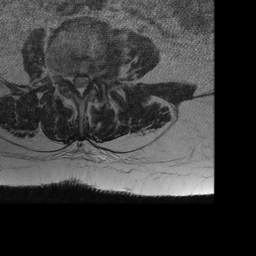CCS_normal: (78, 70, 84, 103)
LFS_stenosis: (90, 64, 98, 86)
LLS_normal: (84, 68, 90, 96)
RFS_stenosis: (64, 66, 71, 90)
RLS_normal: (71, 68, 78, 94)
